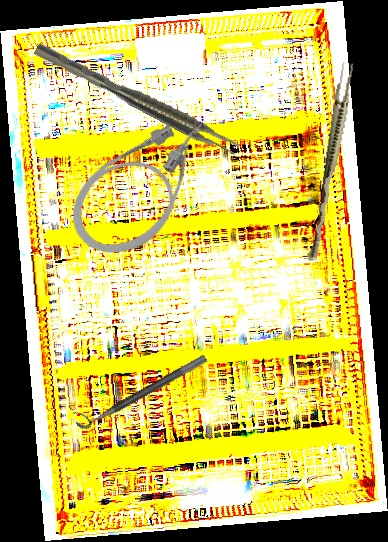Cannula: (52, 100, 239, 274)
Fixation Ring: (70, 343, 209, 433)
Tissue Forceps: (33, 36, 242, 160), (306, 60, 356, 264)
